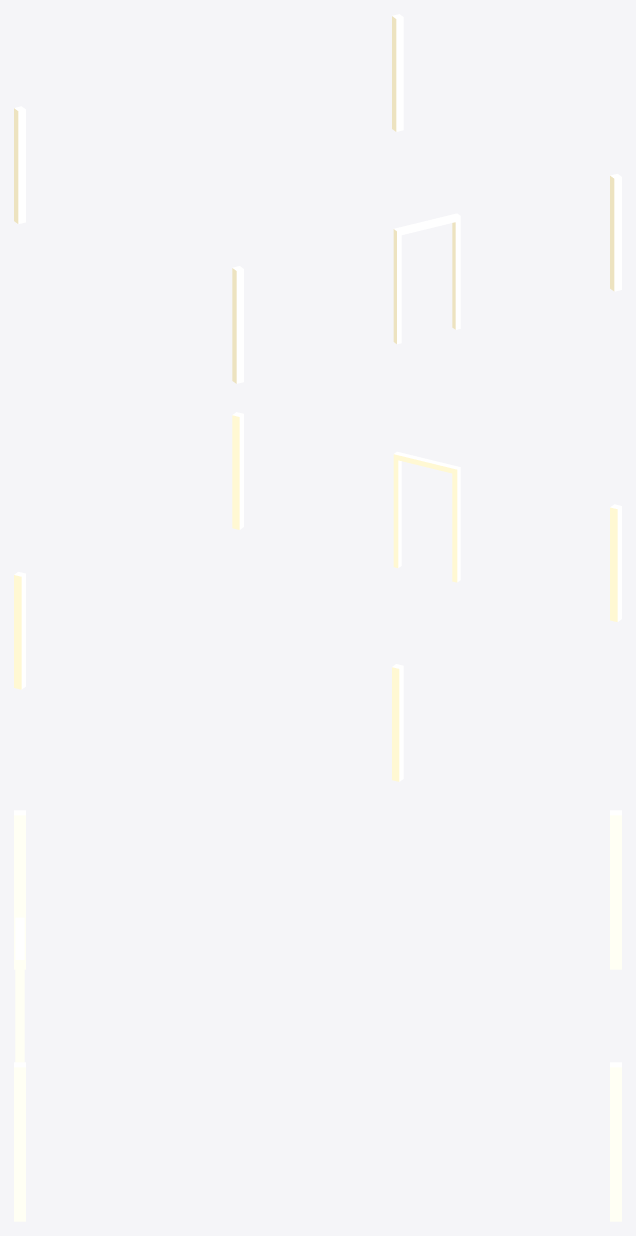
Rendered from accent-skin-10.glb.
3 views of the same model, one above another, from view 1: azimuth 30°, elevation 25°; view 2: azimuth 150°, elevation 25°; view 3: azimuth 270°, elevation 25° (orthographic). The views are drawn at different scales.
Visible parts, largest first — view 1: accent-skin-10; view 2: accent-skin-10; view 3: accent-skin-10.
Part boxes in pixels (x1,y1,x2,y2): accent-skin-10: (14,14,621,383); accent-skin-10: (14,412,621,781); accent-skin-10: (14,810,621,1221).
Size of the model in its own units: 14.28 by 4 by 14.28.
Materials: 1 (1 with a texture image).
